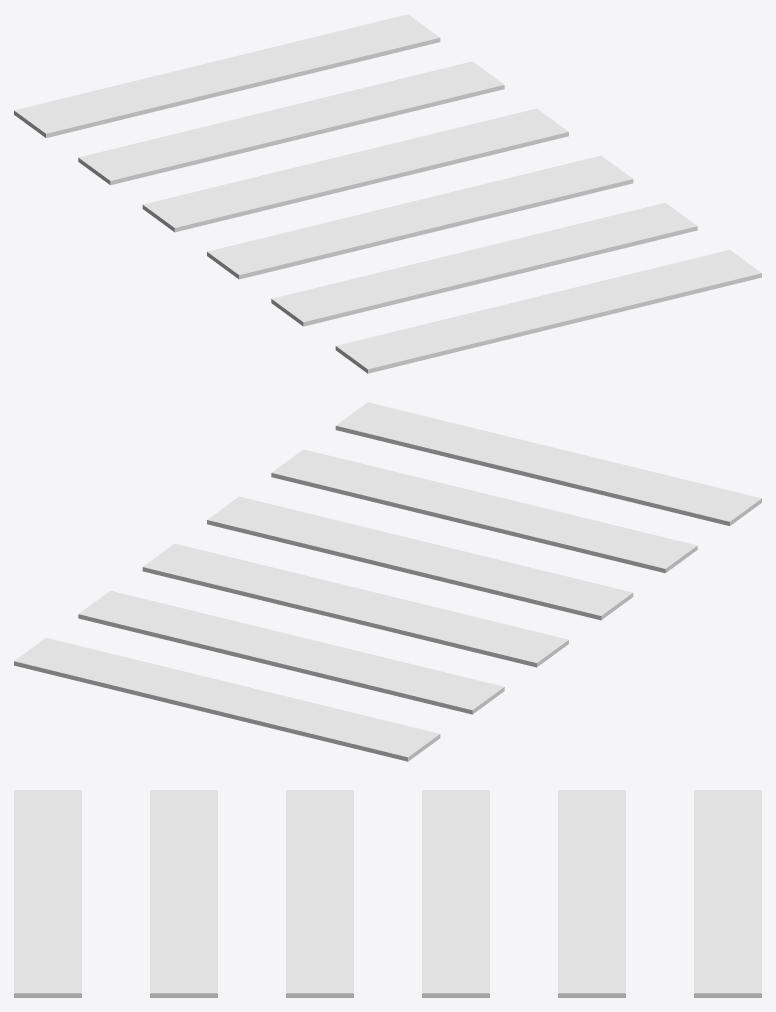
Rendered from SM_RoadCross_01.FBX.
3 views of the same model, one above another, from view 1: azimuth 30°, elevation 25°; view 2: azimuth 150°, elevation 25°; view 3: azimuth 270°, elevation 25° (orthographic). The views are drawn at different scales.
Visible parts, largest first — view 1: SM_RoadCross_01; view 2: SM_RoadCross_01; view 3: SM_RoadCross_01.
Part boxes in pixels (left/top/right/bottom): SM_RoadCross_01: left=14, top=14, right=761, bottom=373; SM_RoadCross_01: left=14, top=402, right=761, bottom=761; SM_RoadCross_01: left=14, top=790, right=761, bottom=997.
Size of the model in its own units: 2.23 by 0.0235 by 3.47.
Materials: 1 (1 with a texture image).
